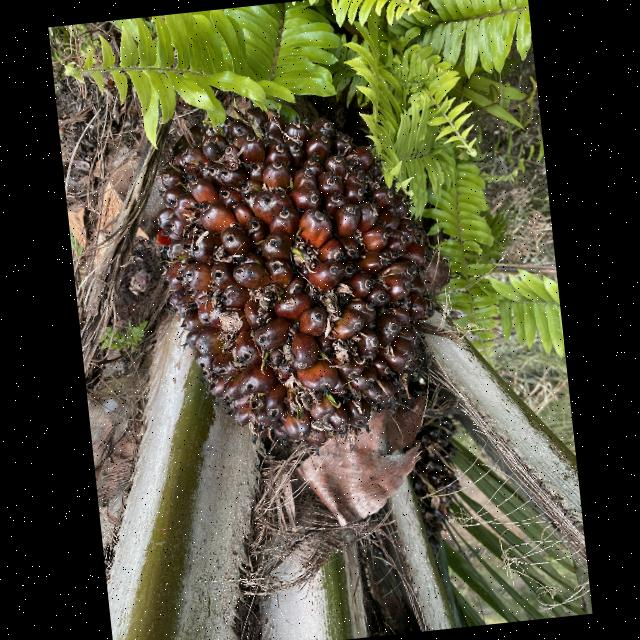Unripe: (151, 102, 452, 450)
